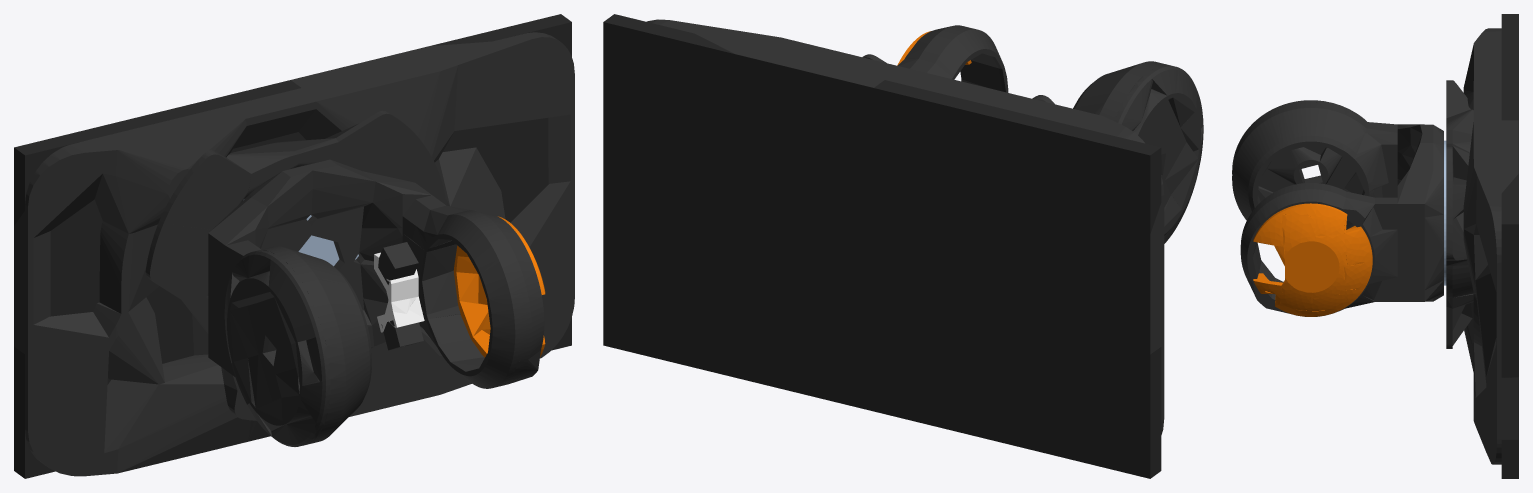
The model's file is RLEG_LINK5_mesh.dae.
The picture shows the model from 3 angles, left to right: view 1: azimuth 30°, elevation 25°; view 2: azimuth 150°, elevation 25°; view 3: azimuth 270°, elevation 25°; orthographic projection. The views are drawn at different scales.
Parts seen in each view (by area): view 1: RLEG_LINK5 (×12); view 2: RLEG_LINK5 (×5); view 3: RLEG_LINK5 (×9).
Part boxes in pixels (left/top/right/bottom): RLEG_LINK5 (×12): left=14, top=14, right=574, bottom=478; RLEG_LINK5 (×5): left=603, top=14, right=1203, bottom=478; RLEG_LINK5 (×9): left=1232, top=14, right=1518, bottom=478.
Size of the model in its own units: 0.23 by 0.13 by 0.1326.
